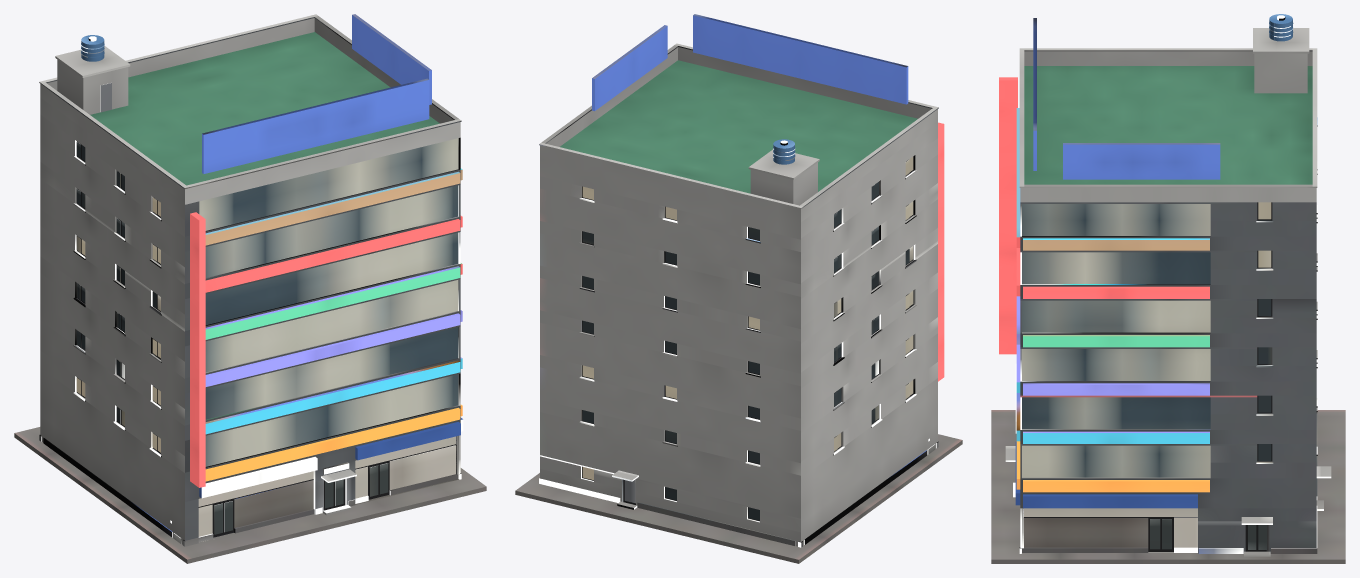
File: IlsanCornerTower02_LOD2.fbx
3 views of the same model, side by side, from view 1: azimuth 30°, elevation 25°; view 2: azimuth 150°, elevation 25°; view 3: azimuth 270°, elevation 25° (orthographic). The views are drawn at different scales.
Visible parts, largest first — view 1: IlsanCornerTower02_LOD2; view 2: IlsanCornerTower02_LOD2; view 3: IlsanCornerTower02_LOD2.
Boxes of the visible parts, x1,y1,x2,y2 form: IlsanCornerTower02_LOD2: [14, 14, 486, 563]; IlsanCornerTower02_LOD2: [515, 14, 962, 563]; IlsanCornerTower02_LOD2: [991, 14, 1345, 563].
Bounding box in the file's own units: 23.95 × 31.35 × 23.9.
Materials: 1 (1 with a texture image).
